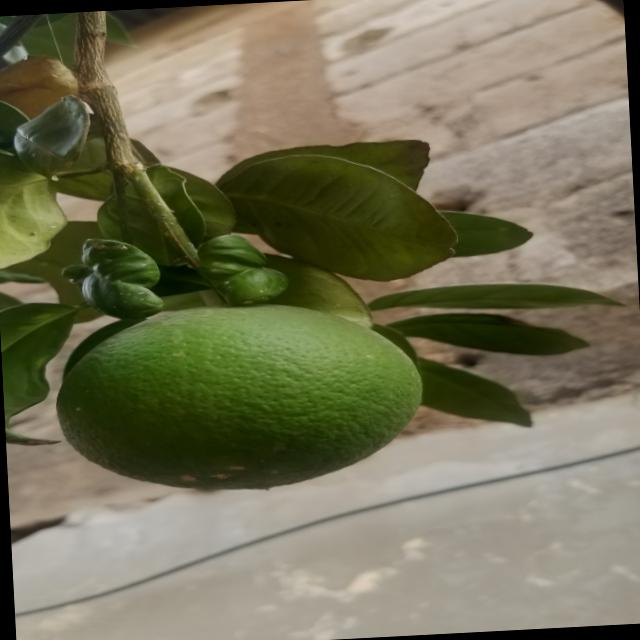Unripe: (48, 290, 430, 511)
